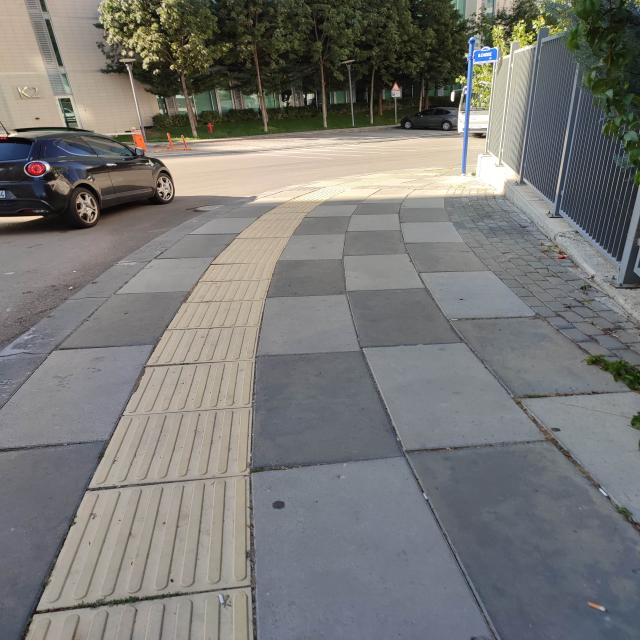sidewalk: (2, 169, 640, 640)
